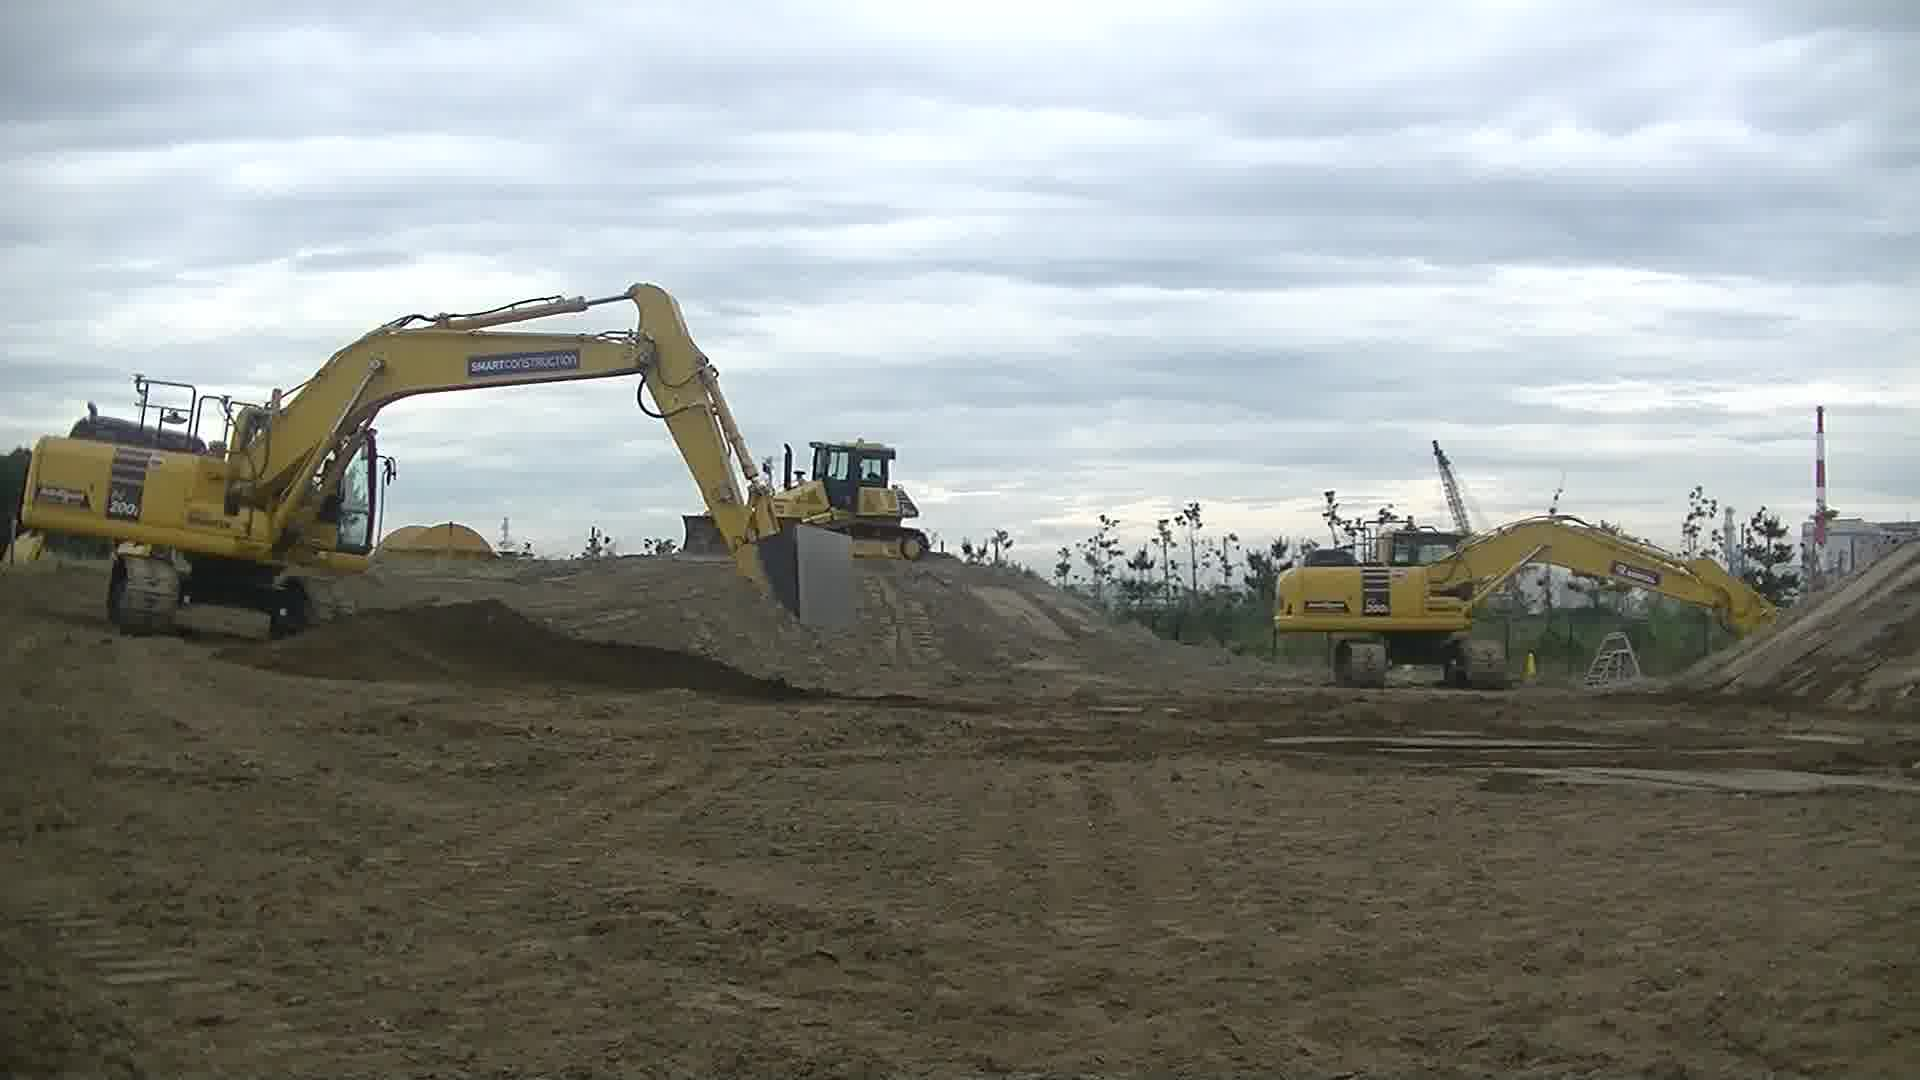body_idle: (18, 400, 375, 578), (1269, 531, 1480, 632)
excavator: (17, 278, 864, 649), (1266, 513, 1834, 690)
hoe_idle: (727, 512, 862, 632), (1750, 622, 1830, 674)
wheels_idle: (102, 549, 356, 649), (1335, 637, 1507, 688)
